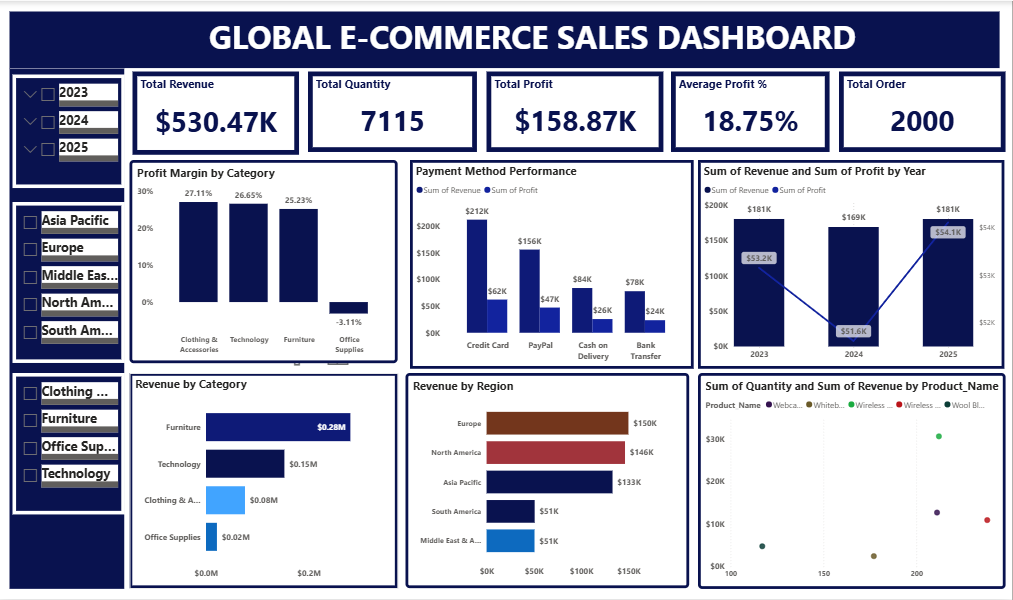

The dashboard page shown, as its layout file describes it:
{"tool":"powerbi","page":{"name":"Page 1","canvas":[1700,1000],"ordinal":0},"visuals":[{"type":"card","title":"Total Revenue","fields":{"Values":["Sum(global_ecommerce_sales.Revenue)"]},"box":[227.5,117.1,278.4,139.2],"z":0},{"type":"card","title":"Total Profit","fields":{"Values":["Sum(global_ecommerce_sales.Profit)"]},"box":[821.8,117.1,296,134.8],"z":1000},{"type":"card","title":"Total Order","fields":{"Values":["Count(global_ecommerce_sales.Order_ID)"]},"box":[1409.5,117.1,278.4,134.8],"z":2000},{"type":"card","title":"Average Profit %","fields":{"Values":["Avg(global_ecommerce_sales.profit Margin %)"]},"box":[1128.9,117.1,265.1,134.8],"z":3000},{"type":"card","title":"Total Quantity","fields":{"Values":["Sum(global_ecommerce_sales.Quantity)"]},"box":[521.4,117.1,282.8,134.8],"z":4000},{"type":"clusteredBarChart","title":" Revenue by Category","fields":{"Y":["Sum(global_ecommerce_sales.Revenue)"],"Category":["global_ecommerce_sales.Product_Category"]},"box":[223.1,623,448.5,360.1],"z":5000},{"type":"clusteredColumnChart","title":"Profit Margin by Category","fields":{"Y":["Avg(global_ecommerce_sales.profit Margin %)"],"Category":["global_ecommerce_sales.Product_Category"]},"box":[223.1,265.1,448.5,340.2],"z":6000},{"type":"clusteredBarChart","title":" Revenue by Region","fields":{"Category":["global_ecommerce_sales.Region"],"Y":["Sum(global_ecommerce_sales.Revenue)"]},"box":[684.8,623,475,360.1],"z":7000},{"type":"textbox","box":[22.1,112.7,192.2,870.4],"z":8000},{"type":"textbox","box":[22.1,17.7,1656.9,95],"z":9000},{"type":"slicer","fields":{"Values":["global_ecommerce_sales.Year","global_ecommerce_sales.Order_Date.Variation.Date Hierarchy.Year","global_ecommerce_sales.Order_Date.Variation.Date Hierarchy.Quarter","global_ecommerce_sales.Order_Date.Variation.Date Hierarchy.Month","global_ecommerce_sales.Order_Date.Variation.Date Hierarchy.Day"]},"box":[26.5,123.7,187.8,190],"z":10000},{"type":"slicer","fields":{"Values":["global_ecommerce_sales.Region"]},"box":[26.5,335.8,187.8,269.5],"z":11000},{"type":"slicer","fields":{"Values":["global_ecommerce_sales.Product_Category"]},"box":[26.5,623,187.8,236.4],"z":12000},{"type":"lineClusteredColumnComboChart","fields":{"Category":["global_ecommerce_sales.Order_Date.Variation.Date Hierarchy.Year","global_ecommerce_sales.Order_Date.Variation.Date Hierarchy.Month"],"Y":["Sum(global_ecommerce_sales.Revenue)"],"Y2":["Sum(global_ecommerce_sales.Profit)"]},"box":[1175.3,265.1,512.5,349.1],"z":13000},{"type":"clusteredColumnChart","title":"Payment Method Performance","fields":{"Y":["Sum(global_ecommerce_sales.Revenue)","Sum(global_ecommerce_sales.Profit)"],"Category":["global_ecommerce_sales.Payment_Method"]},"box":[693.7,265.1,475,349.1],"z":14000},{"type":"scatterChart","fields":{"X":["Sum(global_ecommerce_sales.Quantity)"],"Y":["Sum(global_ecommerce_sales.Revenue)"],"Series":["global_ecommerce_sales.Product_Name"]},"box":[1174.6,622.4,514.5,361.4],"z":15000}]}

Visuals, with their boxes in screenshot pixels (x1, y1, x2, y2), scaled from the page's 1700x1000 canvas onto the 1013x600 screenshot:
"Total Revenue" card: <bbox>136, 70, 301, 154</bbox>
"Total Profit" card: <bbox>490, 70, 666, 151</bbox>
"Total Order" card: <bbox>840, 70, 1006, 151</bbox>
"Average Profit %" card: <bbox>673, 70, 831, 151</bbox>
"Total Quantity" card: <bbox>311, 70, 479, 151</bbox>
" Revenue by Category" clusteredBarChart: <bbox>133, 374, 400, 590</bbox>
"Profit Margin by Category" clusteredColumnChart: <bbox>133, 159, 400, 363</bbox>
" Revenue by Region" clusteredBarChart: <bbox>408, 374, 691, 590</bbox>
textbox: <bbox>13, 68, 128, 590</bbox>
textbox: <bbox>13, 11, 1000, 68</bbox>
slicer - global_ecommerce_sales.Year x global_ecommerce_sales.Order_Date.Variation.Date Hierarchy.Year: <bbox>16, 74, 128, 188</bbox>
slicer - global_ecommerce_sales.Region: <bbox>16, 201, 128, 363</bbox>
slicer - global_ecommerce_sales.Product_Category: <bbox>16, 374, 128, 516</bbox>
lineClusteredColumnComboChart - global_ecommerce_sales.Order_Date.Variation.Date Hierarchy.Year x global_ecommerce_sales.Order_Date.Variation.Date Hierarchy.Month: <bbox>700, 159, 1006, 369</bbox>
"Payment Method Performance" clusteredColumnChart: <bbox>413, 159, 696, 369</bbox>
scatterChart - Sum(global_ecommerce_sales.Quantity) x Sum(global_ecommerce_sales.Revenue): <bbox>700, 373, 1007, 590</bbox>
